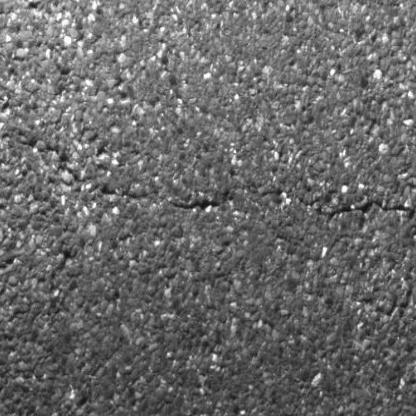Cracks: (0, 121, 416, 243)
